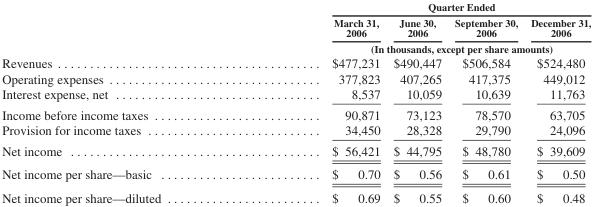table: (1, 0, 590, 204)
table column: (1, 0, 245, 204), (245, 0, 386, 204), (447, 0, 523, 204), (523, 0, 590, 204), (386, 0, 447, 204)
table column header: (1, 0, 590, 54)
table row: (1, 14, 590, 40), (1, 162, 590, 185), (1, 140, 590, 162), (1, 185, 590, 204), (1, 86, 590, 104), (1, 104, 590, 122), (1, 122, 590, 140), (1, 54, 590, 70), (1, 70, 590, 86), (1, 0, 590, 14), (1, 40, 590, 54)
table spanning cell: (245, 0, 590, 14), (245, 40, 590, 54)
